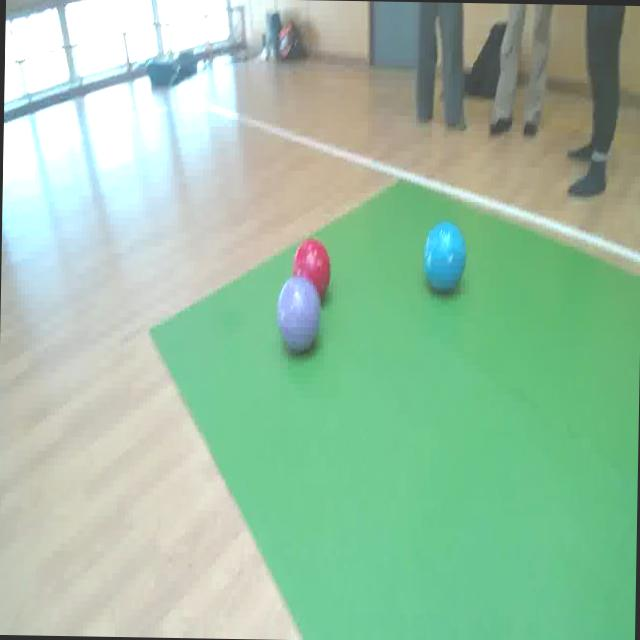blue_ball: (423, 216, 466, 296)
purple_ball: (274, 276, 322, 360)
red_ball: (290, 232, 332, 306)
